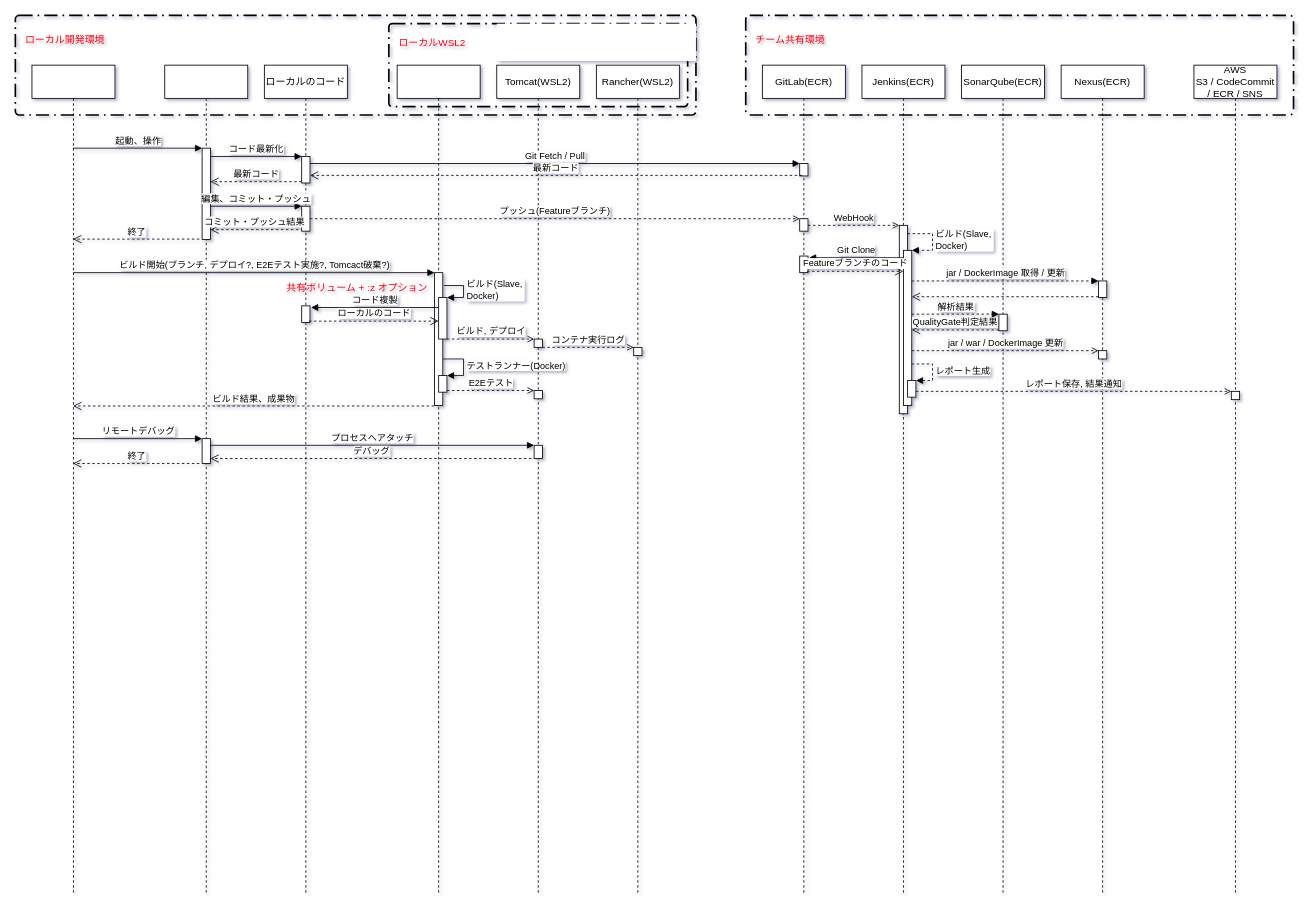
This 1313x915 diagram has some shape labels left out. Each missing label, with the box of its shape:
Jenkins(WSL2): (396, 64, 480, 895)
VSCode/Eclipe: (164, 64, 248, 895)
全て商品ビルド環境と同一 - DockerImage(公式ベース＋カスタマイズ) - ジョブ(JenkinsScript): (496, 23, 696, 61)
開発者: (31, 64, 115, 895)
